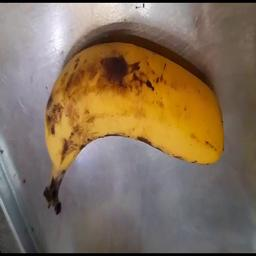Banana Semirotten: (38, 33, 248, 187)
